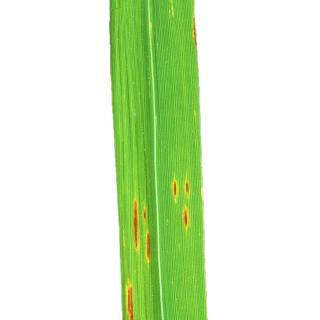Bercak-Cokelat-Sempit: (166, 164, 193, 235), (118, 280, 158, 320), (131, 198, 155, 264), (190, 19, 211, 56), (115, 230, 130, 256)
